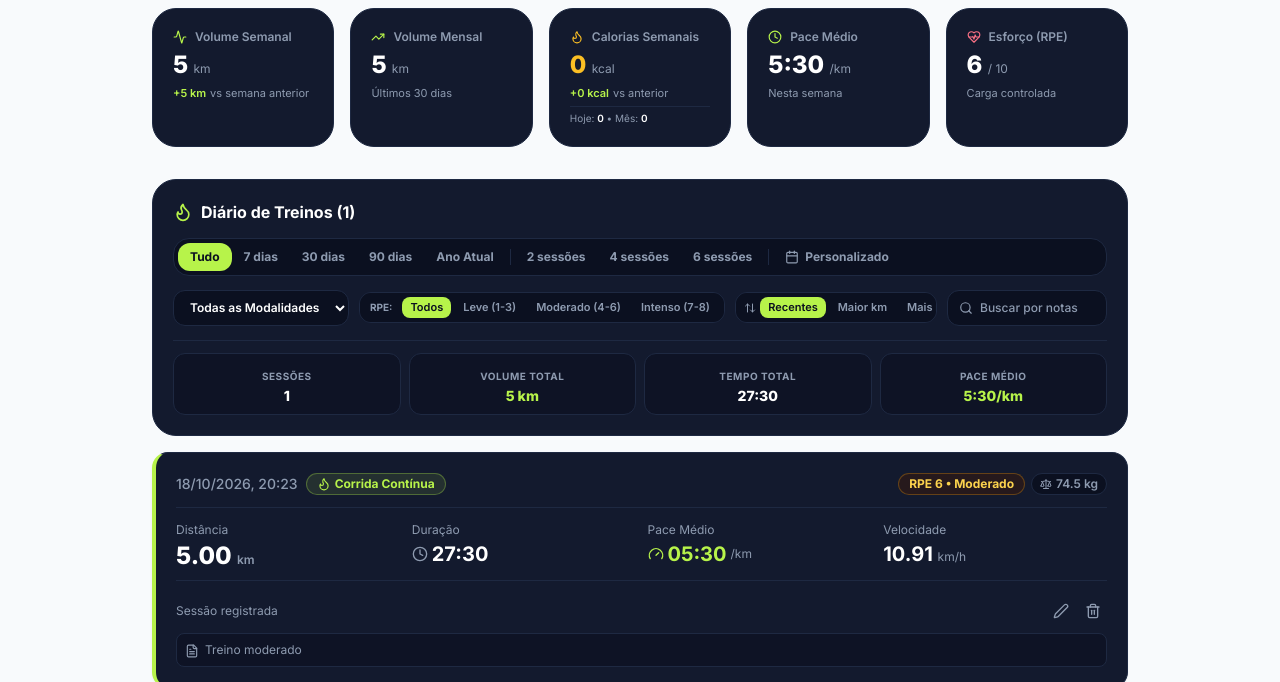
TreinosPage (Fase 4 - Diário de Treinos Completo) › permite abrir o formulário para editar um treino existente
The width and height of the screenshot is (1280, 682).
(page scrolled)
# Clica em editar no primeiro treino
Step 1. Click the button named "Editar este treino" → {"x": 1061, "y": 610}, box [1047,596,1075,624]
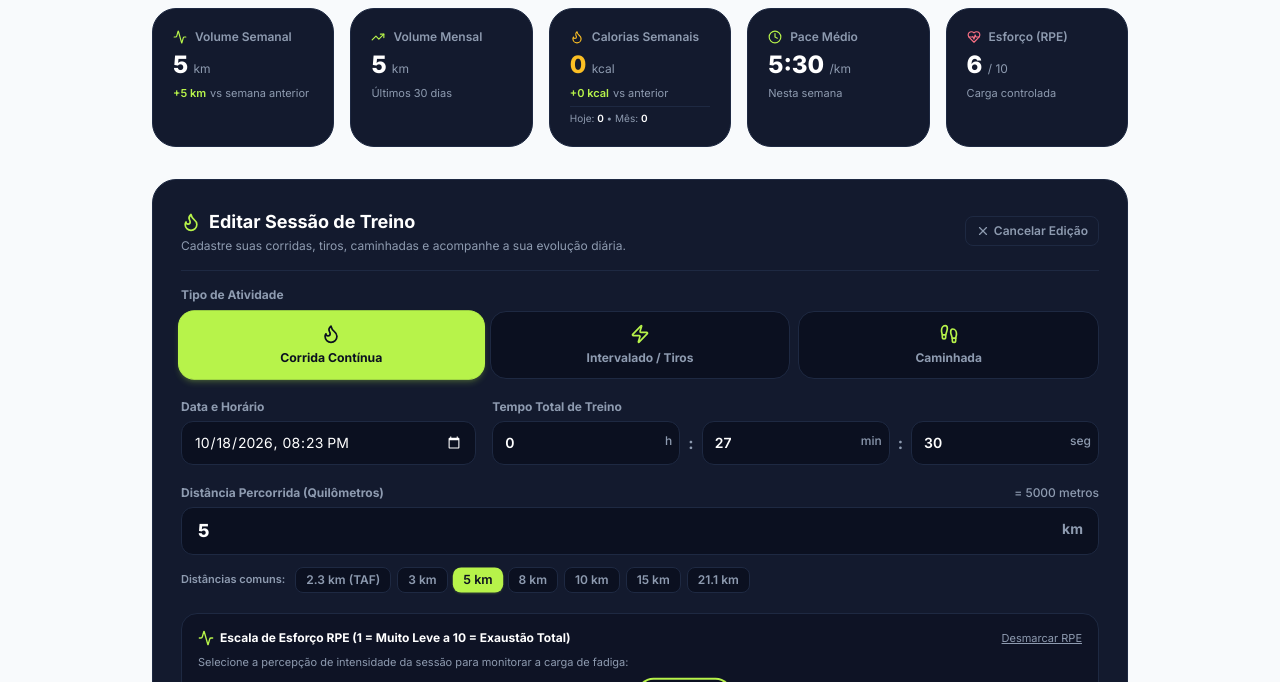
Result: the heading "Editar Sessão de Treino" is shown at [181,210,415,232]
